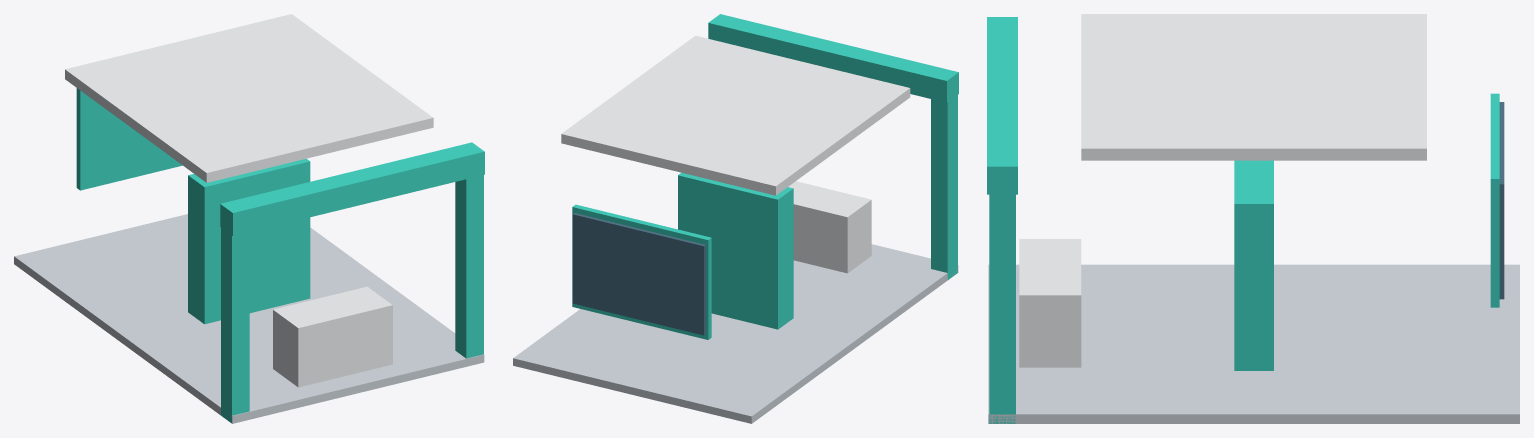
3 renders of one model, left to right at view 1: azimuth 30°, elevation 25°; view 2: azimuth 150°, elevation 25°; view 3: azimuth 270°, elevation 25°, orthographic. The views are drawn at different scales.
Parts seen in each view (by area): view 1: Exhibition Booth Concept; view 2: Exhibition Booth Concept; view 3: Exhibition Booth Concept.
Part boxes in pixels (x1=…): Exhibition Booth Concept: x1=14, y1=14, x2=484, y2=423; Exhibition Booth Concept: x1=513, y1=14, x2=958, y2=423; Exhibition Booth Concept: x1=987, y1=14, x2=1519, y2=423.
Size of the model in its own units: 4 by 3.34 by 6.02.
